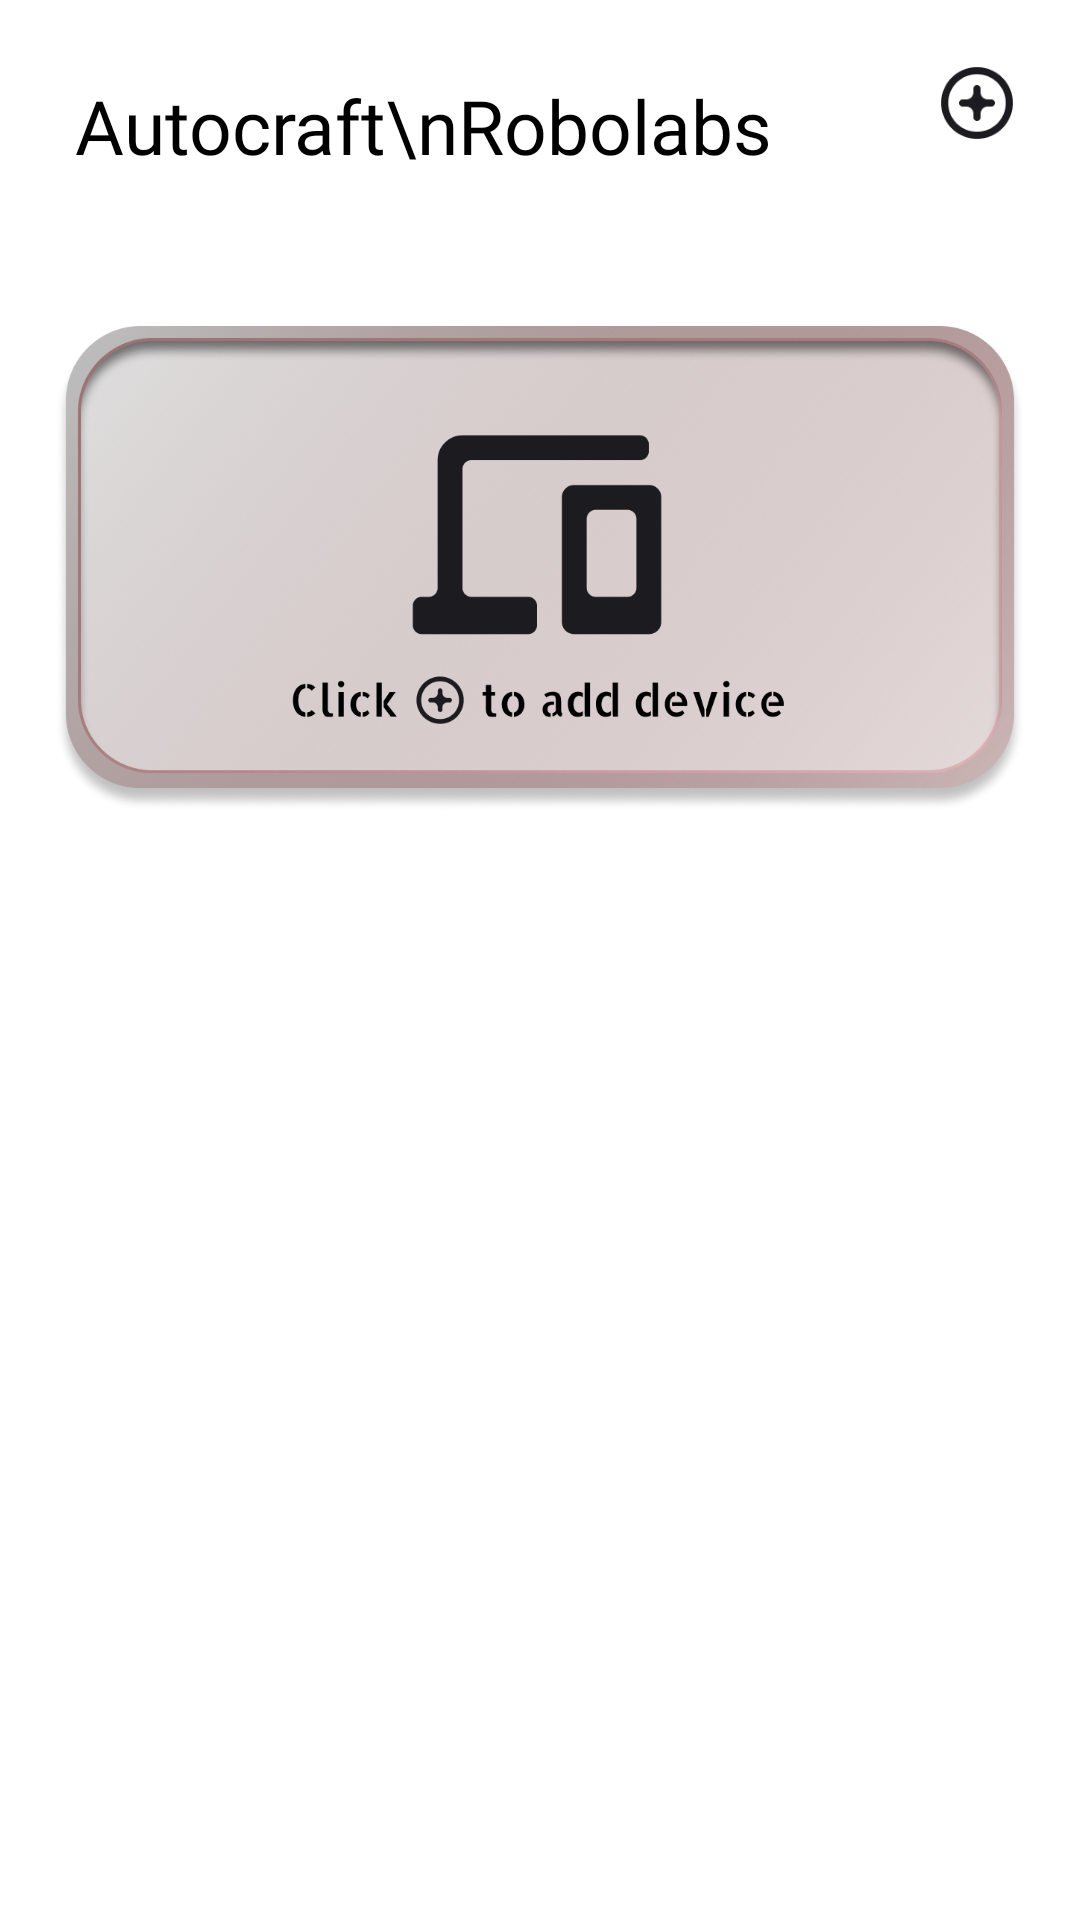

Point at icon controls on the screen. Image size 1080px x 1920px, points as [x,y].
add device: [977,103]
